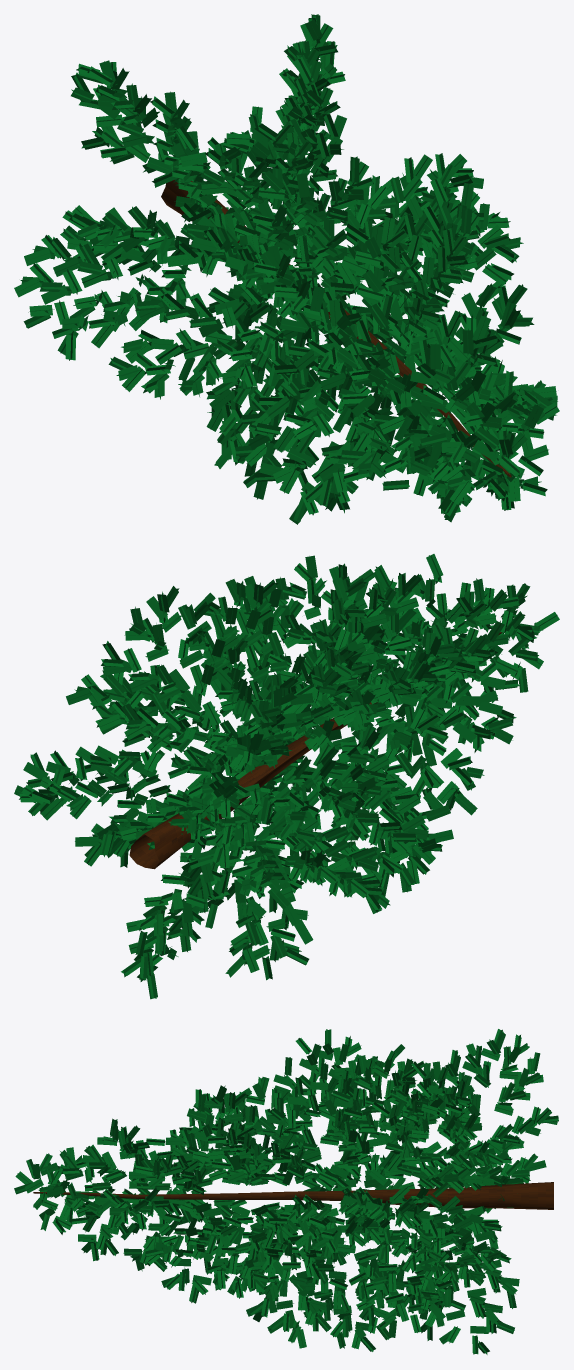
Rendered from spruce.fbx.
3 views of the same model, one above another, from view 1: azimuth 30°, elevation 25°; view 2: azimuth 150°, elevation 25°; view 3: azimuth 270°, elevation 25° (orthographic). The views are drawn at different scales.
Visible parts, largest first — view 1: Foliage01_Needles, Foliage01_Trunk; view 2: Foliage01_Needles, Foliage01_Trunk; view 3: Foliage01_Needles, Foliage01_Trunk.
Boxes of the visible parts, x1,y1,x2,y2 form: Foliage01_Needles: (14, 14, 559, 524); Foliage01_Trunk: (161, 180, 511, 477); Foliage01_Needles: (14, 554, 559, 999); Foliage01_Trunk: (129, 632, 502, 869); Foliage01_Needles: (14, 1029, 558, 1354); Foliage01_Trunk: (33, 1182, 553, 1209).
Bounding box in the file's own units: 199 × 196 × 326.
Materials: 2 (2 with a texture image).
